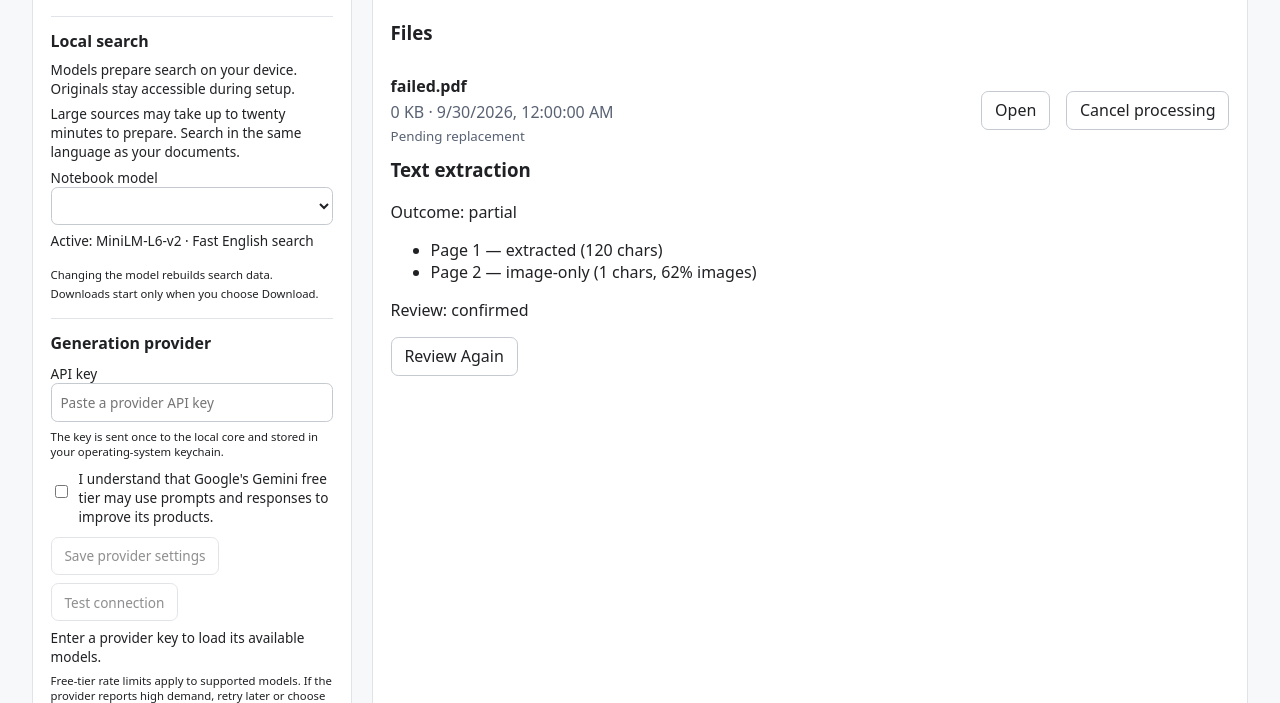
Test: completes Review Again and Confirm after a delayed confirmed extraction poll
(page scrolled)
What coordinates should you click on to do the following:
click the button "Review Again"
I would click on:
 (454, 356)
Its box is [391, 337, 518, 376].
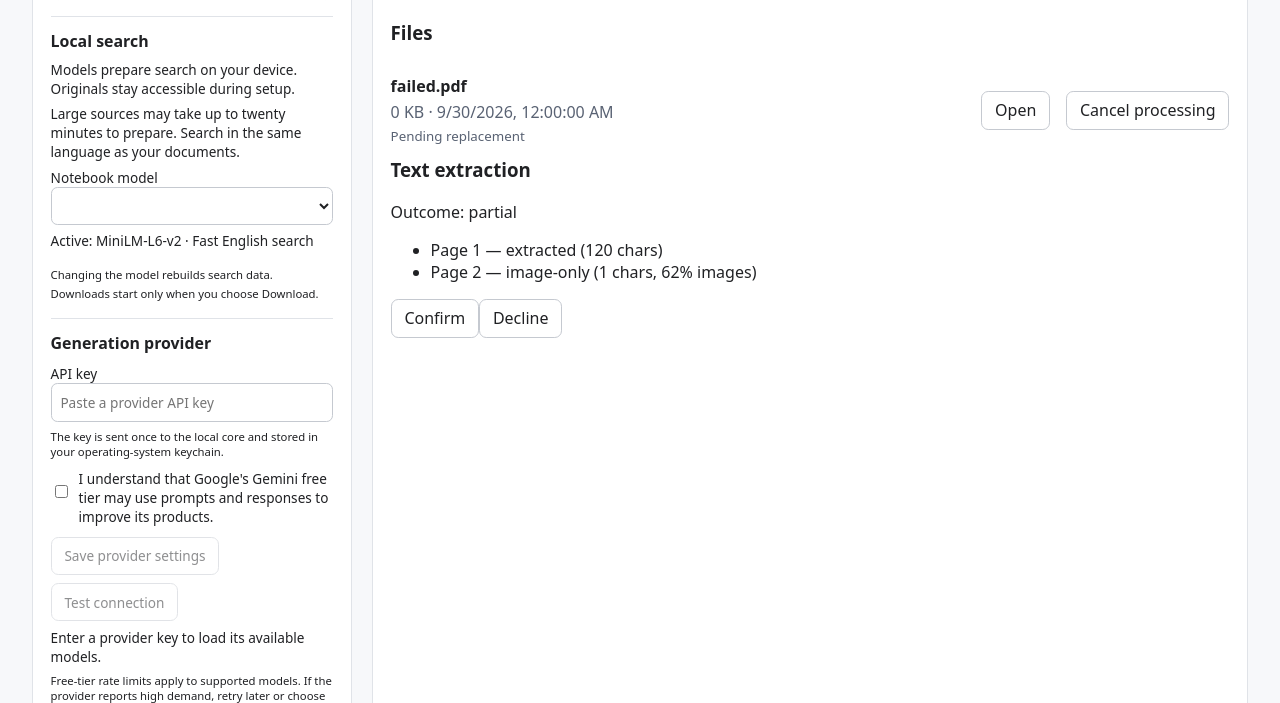
What coordinates should you click on to do the following:
click the button "Confirm"
I would click on:
 (435, 318)
Its box is [391, 299, 479, 338].
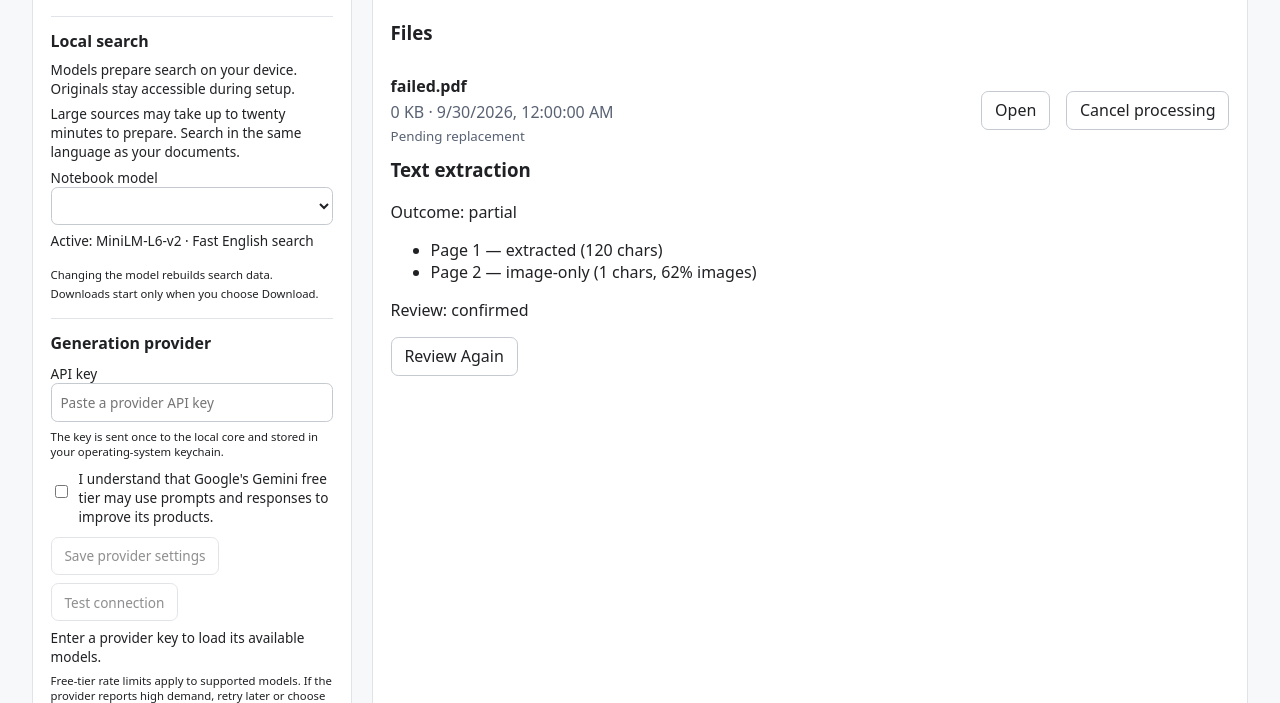
Expected: the text "Review: confirmed" is shown, [391, 299, 529, 321]
